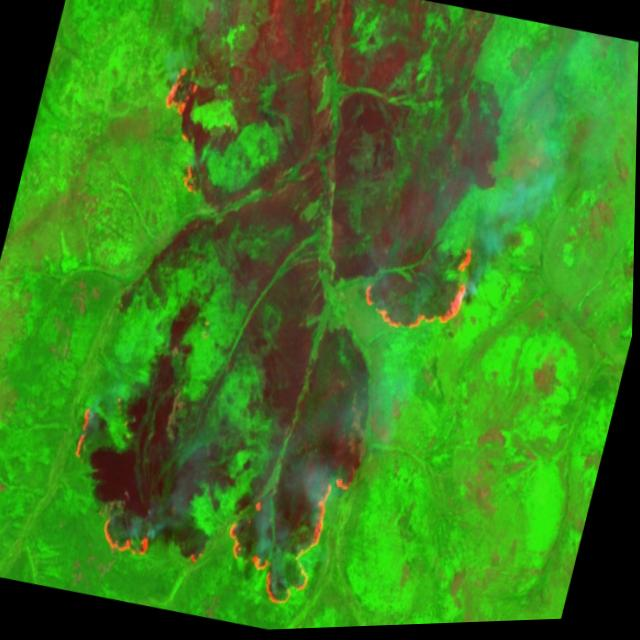fire: (41, 405, 362, 630), (356, 220, 488, 353), (141, 57, 230, 202)
